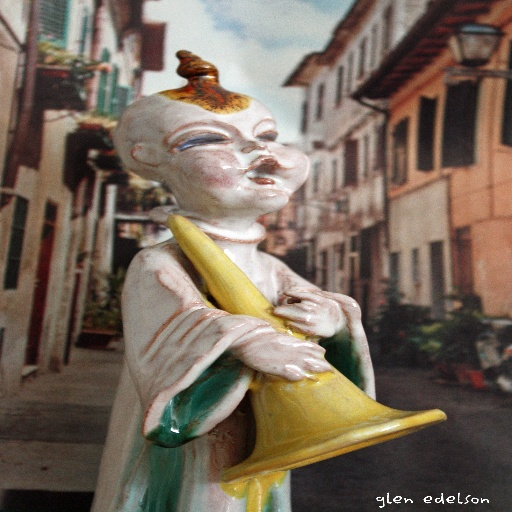hand: (269, 290, 373, 348), (235, 327, 333, 380)
